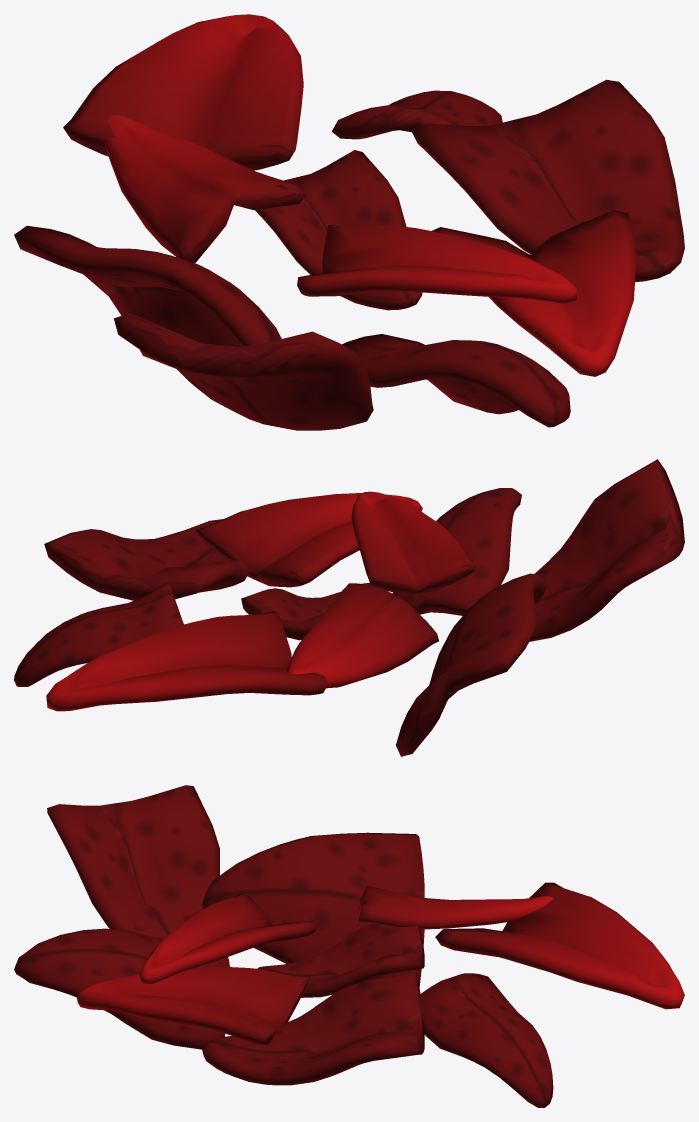
File: LirioDeSangue_cortada.fbx
3 renders of one model, top to bottom at view 1: azimuth 30°, elevation 25°; view 2: azimuth 150°, elevation 25°; view 3: azimuth 270°, elevation 25°, orthographic. The views are drawn at different scales.
Parts seen in each view (by area): view 1: LirioSangue_cortado; view 2: LirioSangue_cortado; view 3: LirioSangue_cortado.
Boxes of the visible parts, x1,y1,x2,y2 form: LirioSangue_cortado: [14, 14, 684, 430]; LirioSangue_cortado: [14, 459, 684, 756]; LirioSangue_cortado: [14, 785, 684, 1107].
Size of the model in its own units: 117 by 38.2 by 140.
Materials: 1 (1 with a texture image).
